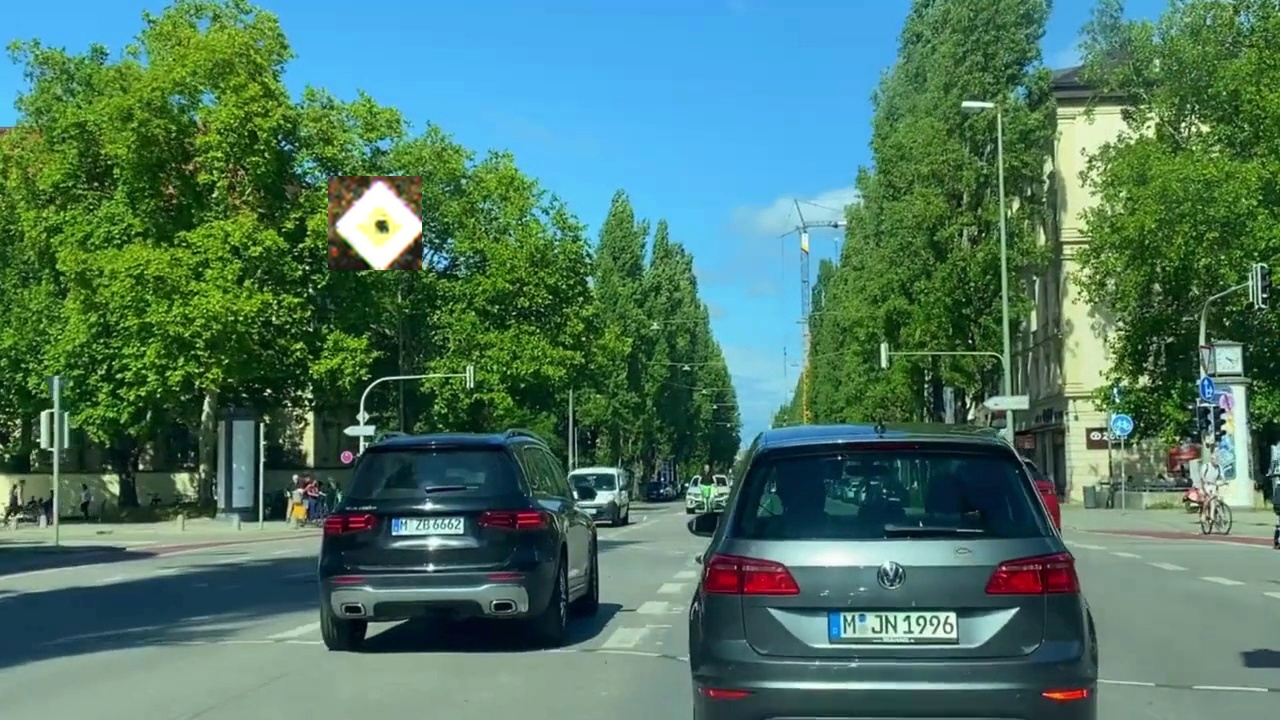Priority road: (328, 176, 422, 270)
